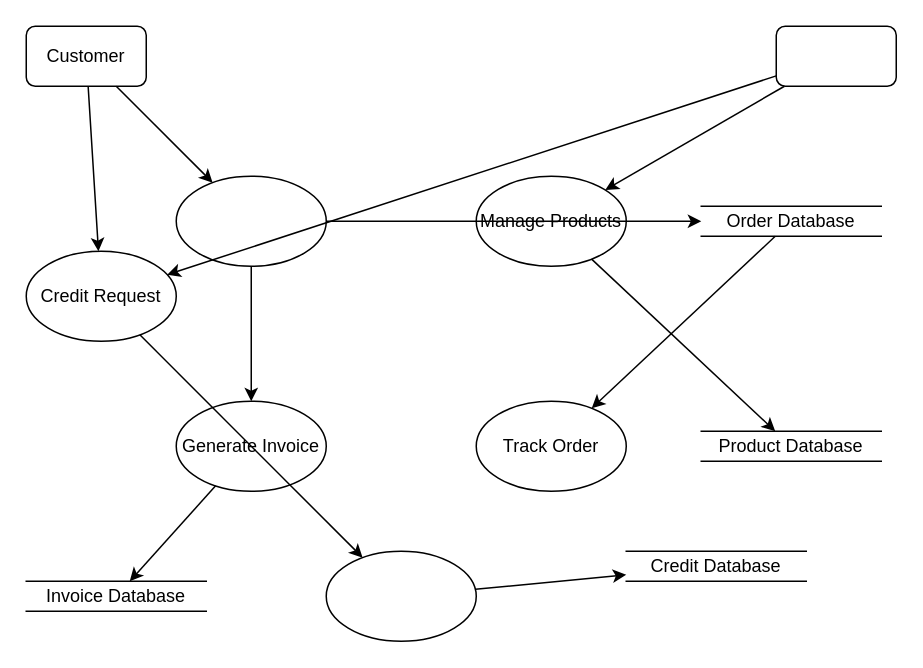
Image size: 923x668. Some labels were removed from this diagram. The shapes that lost their labels are listed below. From the top down, each one's box as (x1, y1, x2, y2) in pixels, then its label:
(775, 25, 896, 86): Admin
(175, 175, 326, 266): Place Order
(325, 550, 476, 641): Payment Processing
